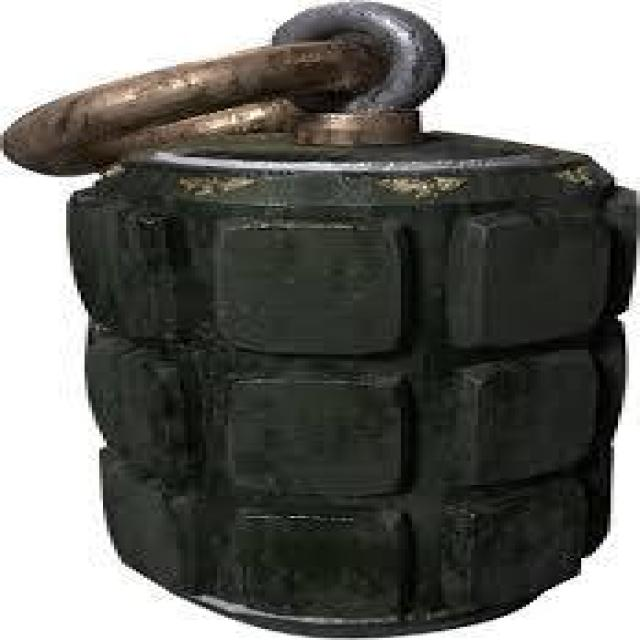grenade: (0, 4, 636, 639)
